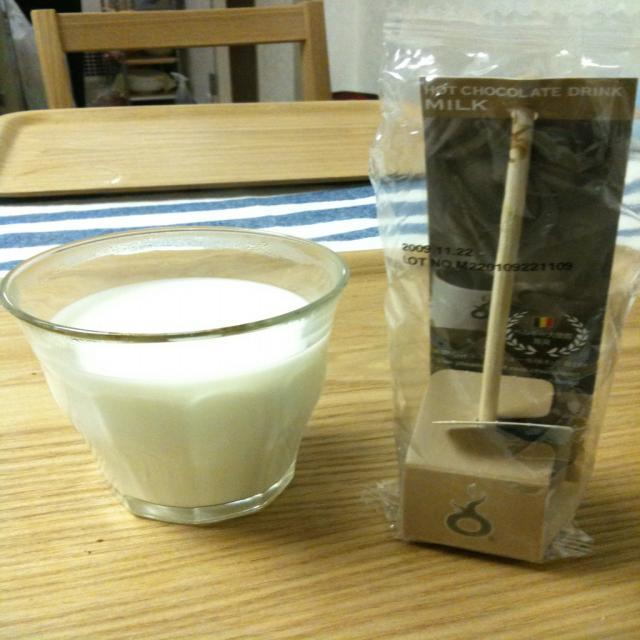Milk: (44, 280, 330, 508)
